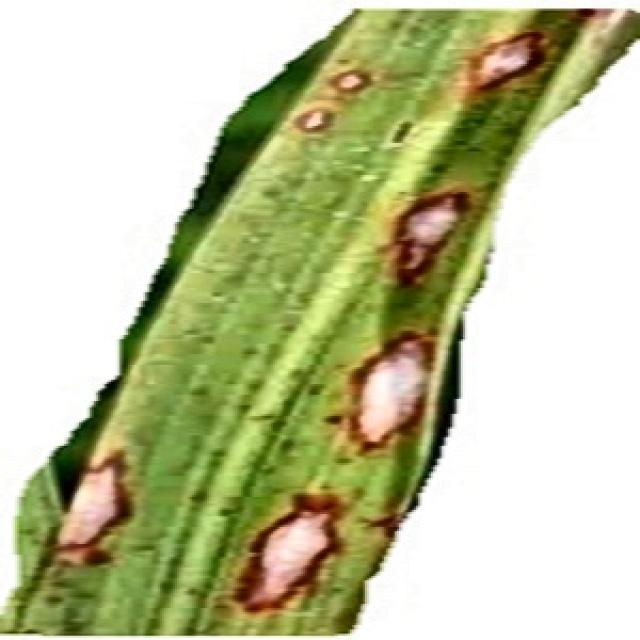Leaf_Blast: (8, 4, 614, 636)
